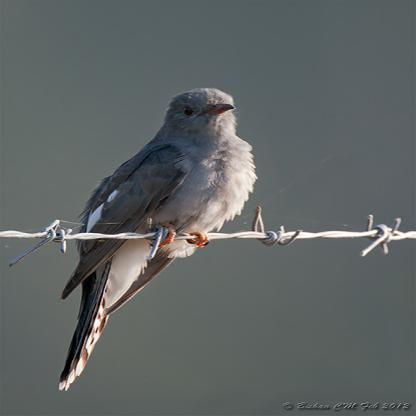Burung: (56, 87, 256, 390)
